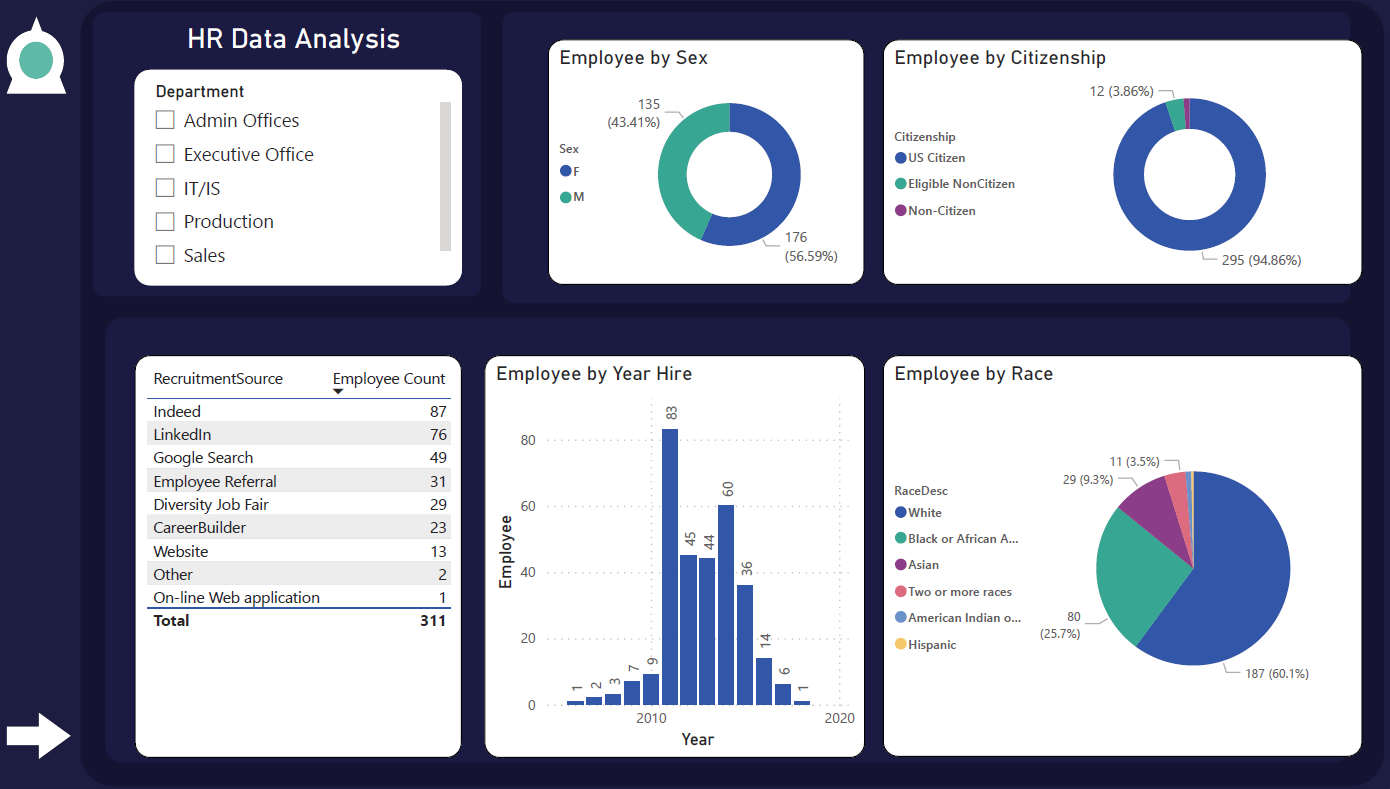

Layout of this report page (visuals, bound fields, positions):
{"tool":"powerbi","page":{"name":"Page 1","canvas":[1280,720],"ordinal":0},"visuals":[{"type":"donutChart","fields":{"Category":["HRDataset.Sex"],"Y":["CountNonNull(HRDataset.EmpID)"]},"box":[513.6,45.7,272,211.1],"z":0},{"type":"textbox","box":[198.3,26.2,202.2,37.9],"z":1000},{"type":"slicer","fields":{"Values":["HRDataset.Department"]},"box":[158.4,72.1,281.2,184.7],"z":2000},{"type":"donutChart","fields":{"Y":["CountNonNull(HRDataset.EmpID)"],"Category":["HRDataset.CitizenDesc"]},"box":[800.9,45.7,412.1,211.1],"z":3000},{"type":"tableEx","fields":{"Values":["HRDataset.RecruitmentSource","CountNonNull(HRDataset.EmpID)"]},"box":[158.4,316.7,281.2,346.1],"z":4000},{"type":"clusteredColumnChart","title":"EmpIoyee by Year Hire","fields":{"Y":["CountNonNull(HRDataset.EmpID)"],"Category":["HRDataset.DateofHire.Variation.Date Hierarchy.Year"]},"box":[458.8,316.7,326.9,346.1],"z":5000},{"type":"pieChart","title":"Employee by Race","fields":{"Y":["CountNonNull(HRDataset.EmpID)"],"Category":["HRDataset.RaceDesc"]},"box":[800.5,317,412.4,345.4],"z":6000},{"type":"shape","box":[48.8,623.7,54.9,39.6],"z":7000},{"type":"shape","box":[49,26,51,66],"z":7001},{"type":"shape","box":[49,38,49,52],"z":7002},{"type":"shape","box":[59,48,29,32],"z":7003}]}

Visuals, with their boxes in screenshot pixels (x1, y1, x2, y2), scaled from the page's 1280x720 canvas onto the 1390x789 screenshot:
donutChart - HRDataset.Sex x CountNonNull(HRDataset.EmpID): {"left": 558, "top": 50, "right": 853, "bottom": 281}
textbox: {"left": 215, "top": 29, "right": 435, "bottom": 70}
slicer - HRDataset.Department: {"left": 172, "top": 79, "right": 477, "bottom": 281}
donutChart - CountNonNull(HRDataset.EmpID) x HRDataset.CitizenDesc: {"left": 870, "top": 50, "right": 1317, "bottom": 281}
tableEx - HRDataset.RecruitmentSource x CountNonNull(HRDataset.EmpID): {"left": 172, "top": 347, "right": 477, "bottom": 726}
"EmpIoyee by Year Hire" clusteredColumnChart: {"left": 498, "top": 347, "right": 853, "bottom": 726}
"Employee by Race" pieChart: {"left": 869, "top": 347, "right": 1317, "bottom": 726}
shape: {"left": 53, "top": 683, "right": 113, "bottom": 727}
shape: {"left": 53, "top": 28, "right": 109, "bottom": 101}
shape: {"left": 53, "top": 42, "right": 106, "bottom": 99}
shape: {"left": 64, "top": 53, "right": 96, "bottom": 88}
